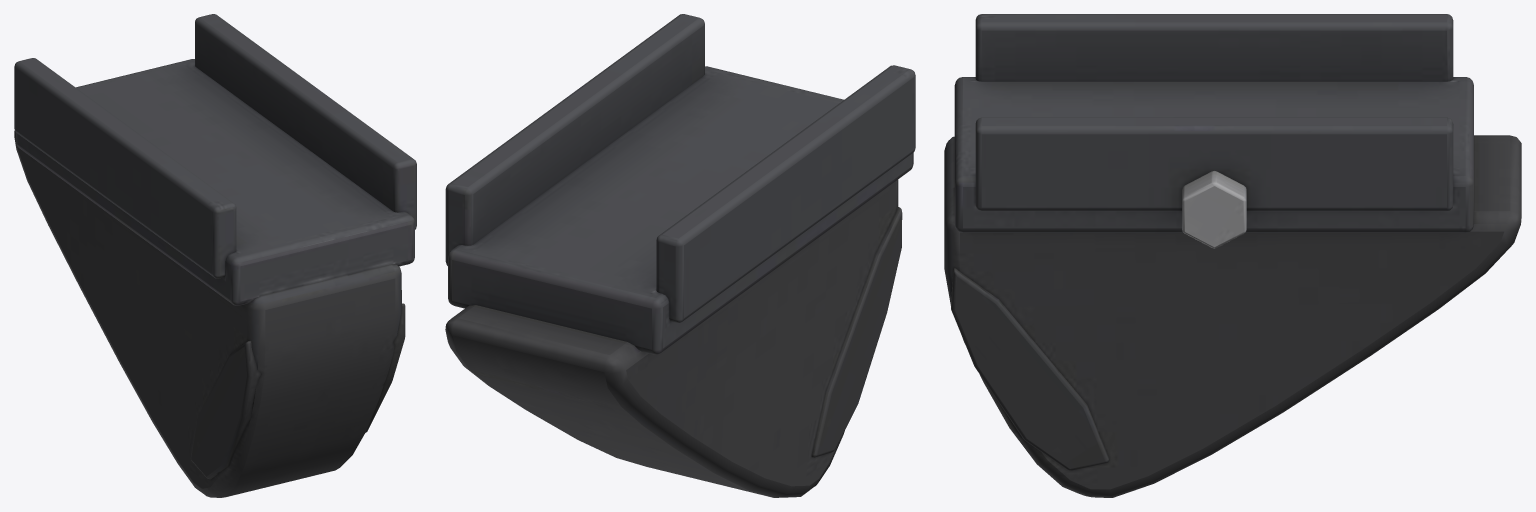
Rendered from grip-angled.glb.
3 renders of one model, left to right at view 1: azimuth 30°, elevation 25°; view 2: azimuth 150°, elevation 25°; view 3: azimuth 270°, elevation 25°, orthographic. The views are drawn at different scales.
Parts seen in each view (by area): view 1: body; view 2: body; view 3: body.
Boxes of the visible parts, x1,y1,x2,y2 form: body: [14, 14, 416, 497]; body: [445, 14, 915, 497]; body: [944, 14, 1521, 497].
Size of the model in its own units: 0.0295 by 0.042 by 0.0556.
4 materials, 4 textured.
